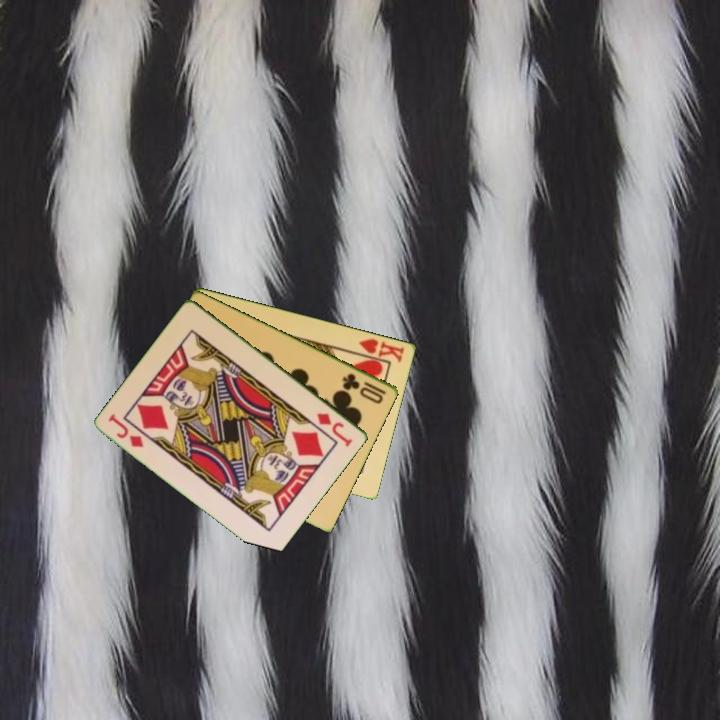10c: (339, 369, 390, 407)
Jd: (314, 409, 356, 450), (105, 410, 147, 450)
Kh: (351, 334, 408, 365)
